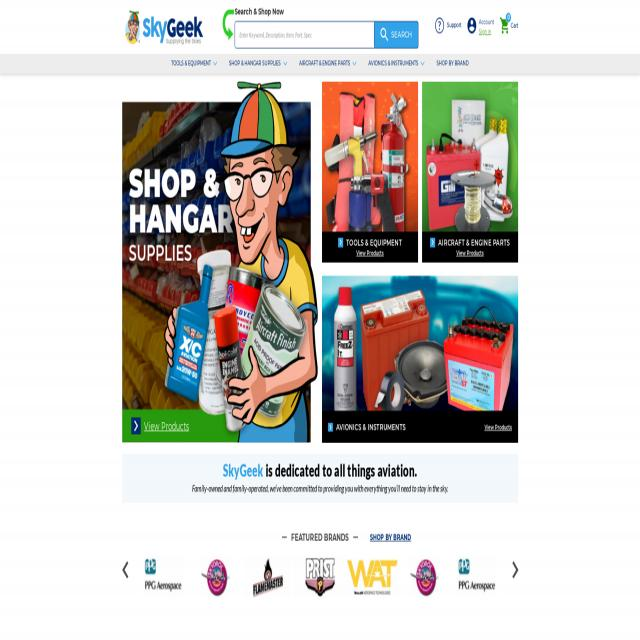button: (122, 81, 318, 442), (322, 276, 518, 443), (322, 82, 418, 255), (422, 82, 518, 255), (122, 7, 206, 48), (189, 556, 242, 600), (346, 556, 399, 600), (137, 556, 189, 600), (242, 556, 294, 600), (294, 556, 346, 600), (399, 556, 451, 600), (451, 556, 503, 600), (374, 21, 418, 48), (222, 6, 234, 42), (119, 553, 131, 586), (509, 553, 521, 586), (468, 17, 477, 34), (500, 17, 509, 34), (436, 17, 444, 34), (213, 59, 217, 68), (283, 59, 287, 68), (421, 59, 425, 68), (353, 59, 356, 68)
field: (235, 21, 418, 48)
